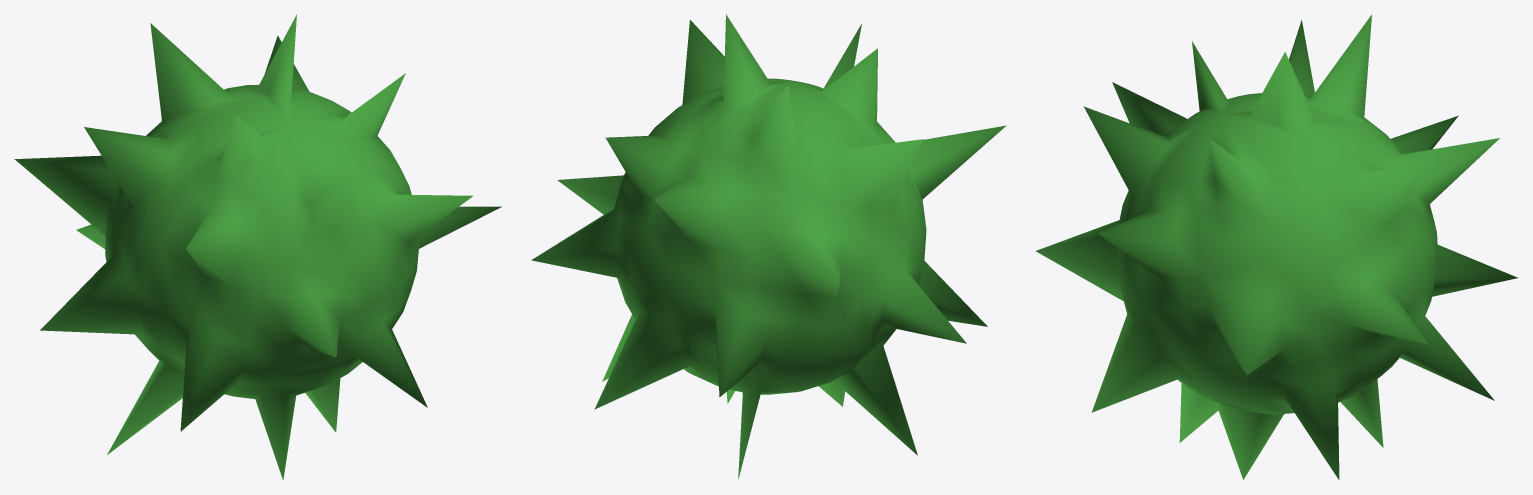
Rendered from enemy.glb.
The picture shows the model from 3 angles, left to right: view 1: azimuth 30°, elevation 25°; view 2: azimuth 150°, elevation 25°; view 3: azimuth 270°, elevation 25°; orthographic projection. The views are drawn at different scales.
Parts seen in each view (by area): view 1: bacterium; view 2: bacterium; view 3: bacterium.
Part boxes in pixels (x1,y1,x2,y2): bacterium: (14,14,501,480); bacterium: (531,14,1006,480); bacterium: (1036,14,1517,479).
Size of the model in its own units: 3.19 by 2.91 by 2.99.
